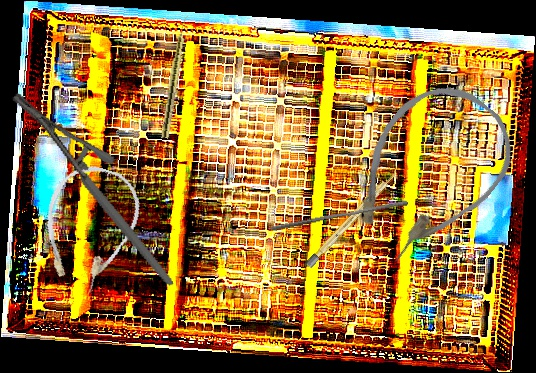Cannula: (324, 64, 532, 282), (27, 156, 150, 301)
Handpiece: (160, 14, 190, 140)
Needle Holder: (9, 63, 175, 316)
Pusher: (270, 195, 409, 237)
Scalpel Handle: (304, 167, 401, 269)
